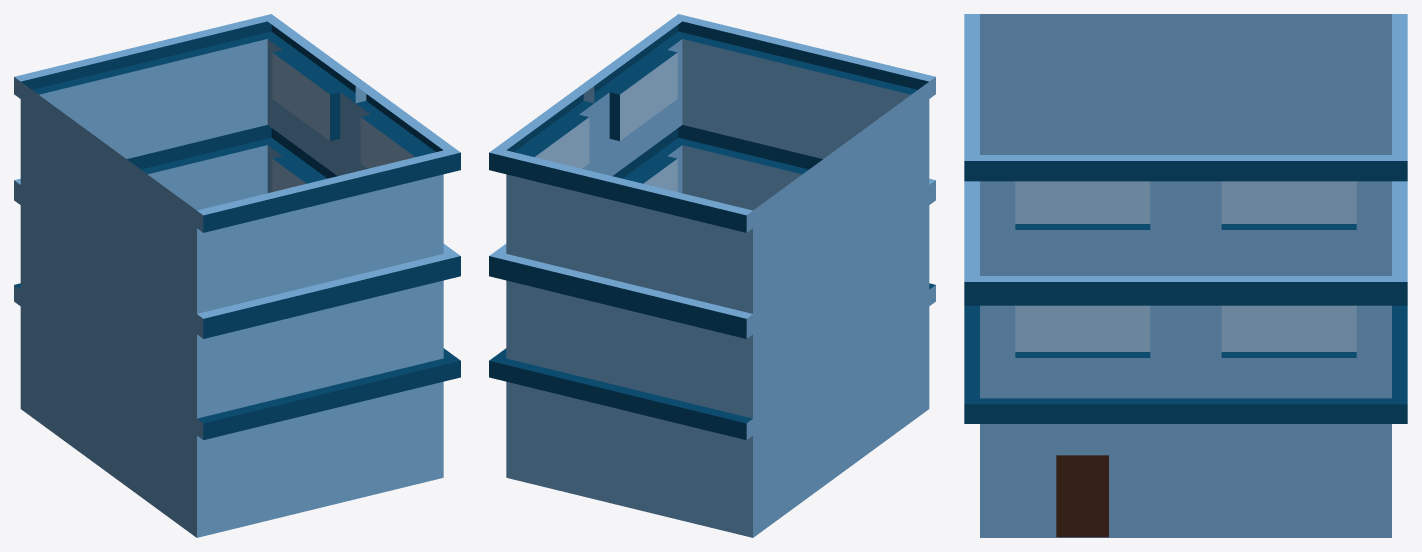
File: blue short building 2.fbx
3 views of the same model, side by side, from view 1: azimuth 30°, elevation 25°; view 2: azimuth 150°, elevation 25°; view 3: azimuth 270°, elevation 25° (orthographic). The views are drawn at different scales.
Parts seen in each view (by area): view 1: Cube; view 2: Cube; view 3: Cube.
Part boxes in pixels (<box>): Cube: <box>14,14,460,537</box>; Cube: <box>489,14,935,537</box>; Cube: <box>964,14,1407,537</box>.
Bounding box in the file's own units: 209 × 254 × 266.
